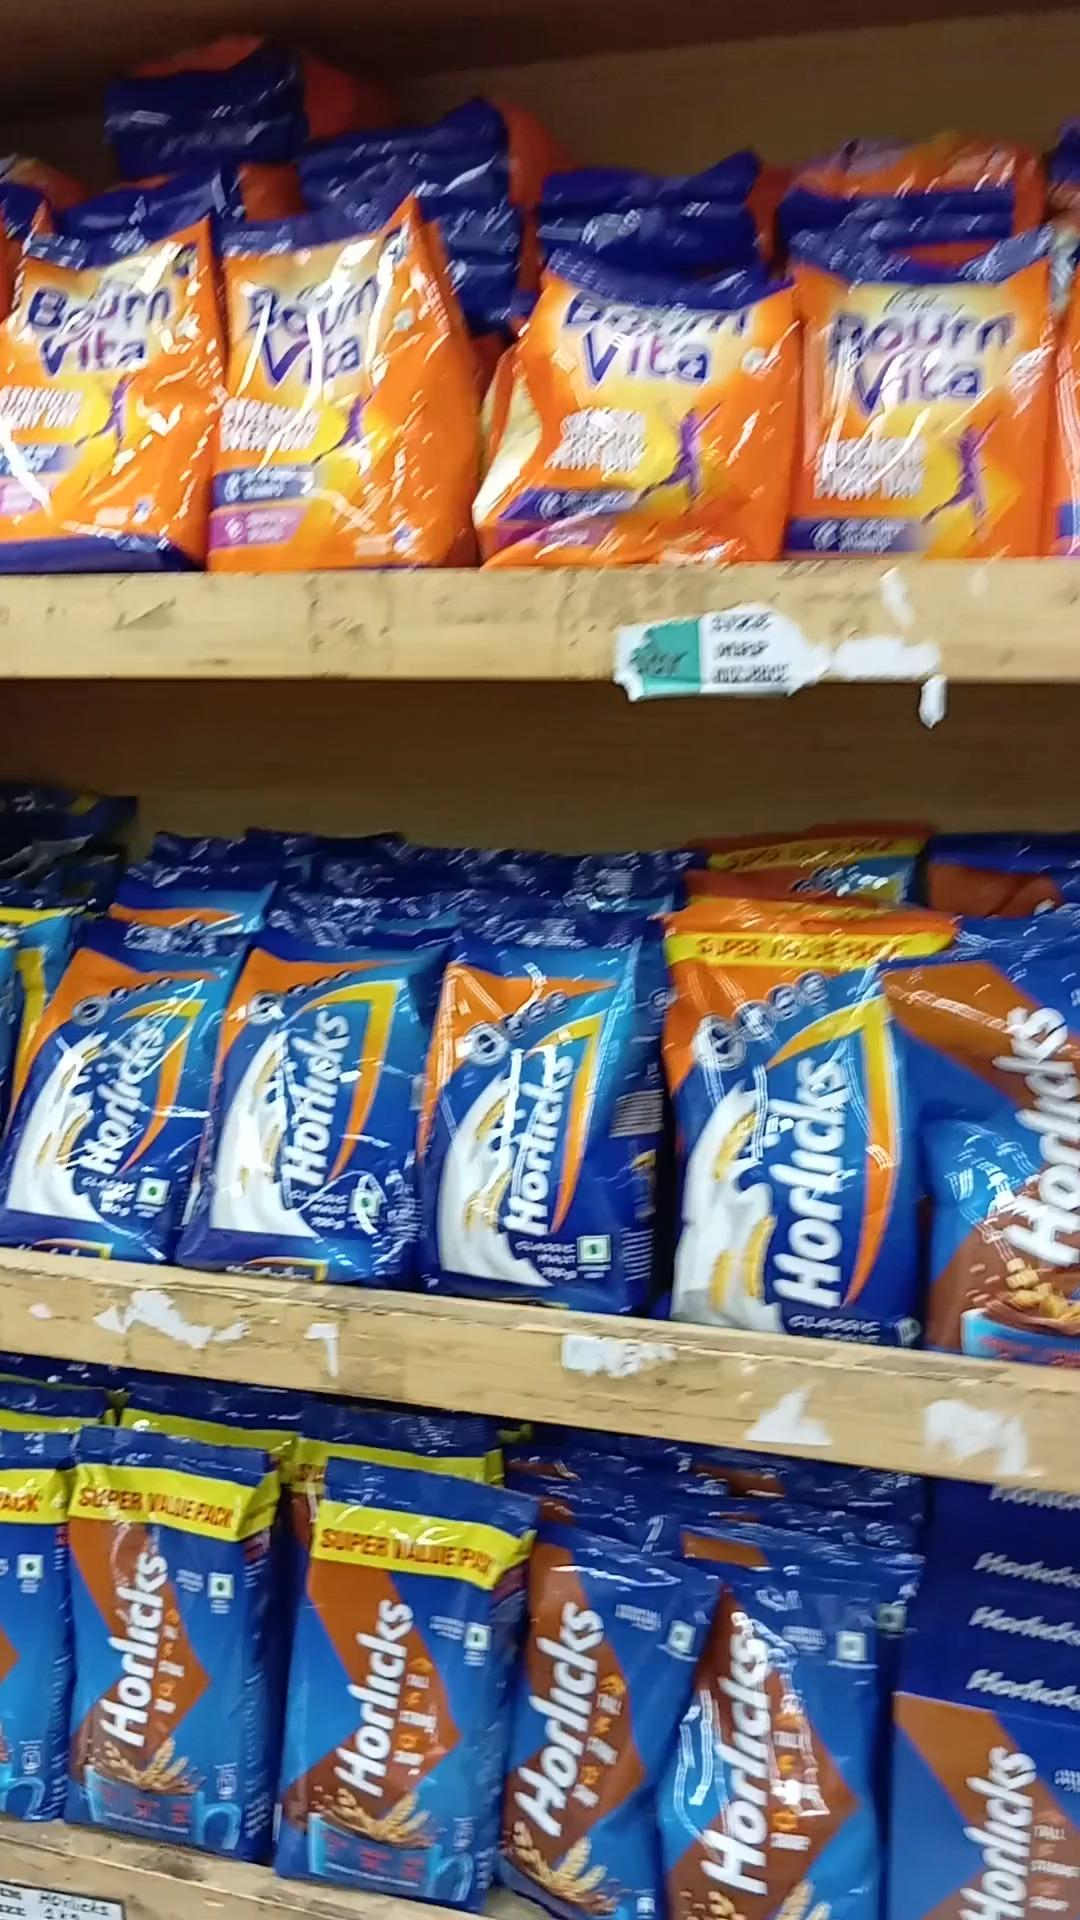BOURN_VITA_750_G_POUCH: (508, 235, 789, 562), (798, 223, 1046, 556), (223, 219, 459, 568), (0, 191, 212, 572)
HORLICK_CHOCOLATE_750_G_POUCH: (282, 1462, 495, 1908), (71, 1424, 255, 1857)
HORLICK_CLASSIC_MALT_750_G_POUCH: (435, 922, 640, 1323), (218, 916, 413, 1282), (20, 922, 179, 1261)
